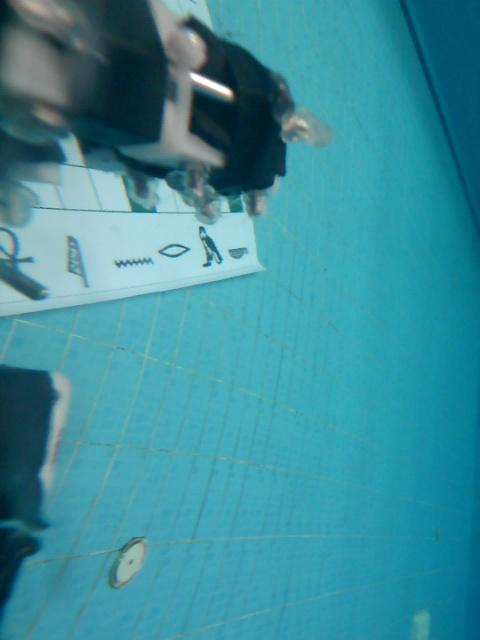Ankh: (0, 226, 36, 276)
Basket: (226, 247, 252, 261)
Mouth: (159, 242, 191, 259)
Owl: (196, 225, 224, 266)
Reed: (64, 232, 92, 290)
Water: (113, 256, 155, 267)
